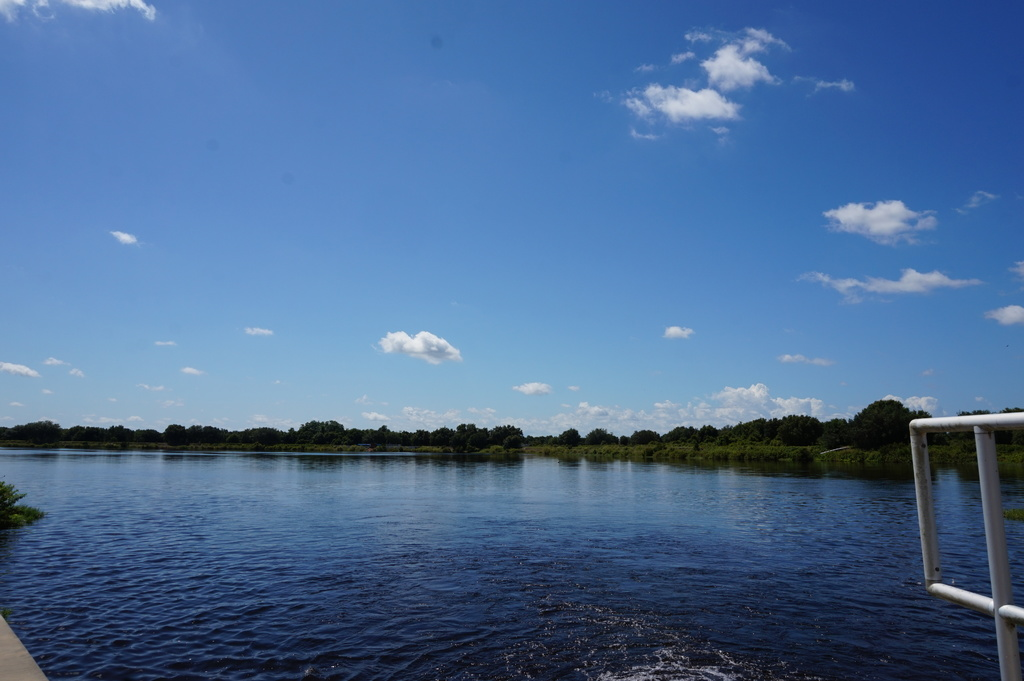Tree: (0, 412, 524, 455), (587, 414, 853, 448), (848, 398, 908, 455), (563, 427, 579, 446)
